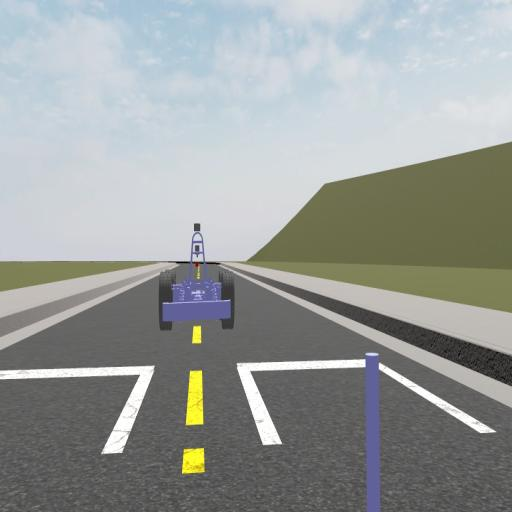ERP-42: (159, 224, 235, 330)
